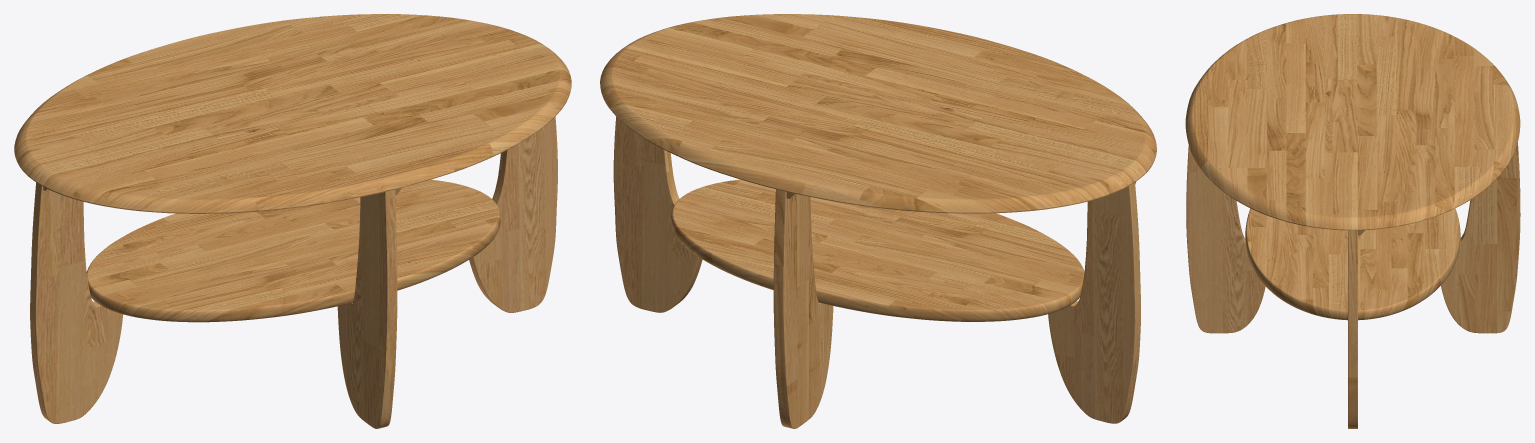
File: abo-B07SK9PJN9.glb
The picture shows the model from 3 angles, left to right: view 1: azimuth 30°, elevation 25°; view 2: azimuth 150°, elevation 25°; view 3: azimuth 270°, elevation 25°; orthographic projection. The views are drawn at different scales.
Bounding box in the file's own units: 1.04 × 0.49 × 0.69.
1 material, 1 textured.
